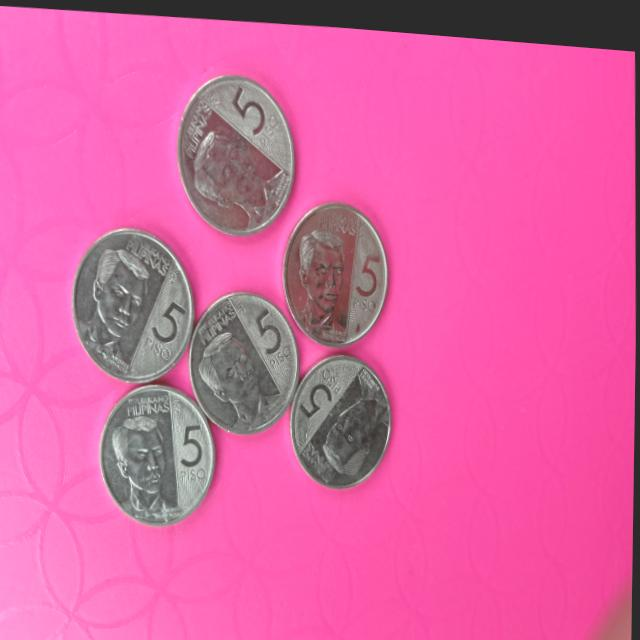5_New_Front: (225, 77, 279, 153), (345, 230, 389, 314), (299, 357, 349, 427), (144, 295, 193, 357), (173, 415, 211, 494), (258, 302, 292, 363)
